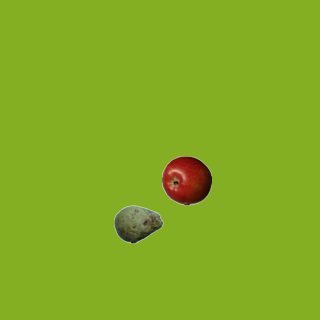Apple Braeburn: (161, 155, 211, 205)
Pear Stone: (113, 199, 163, 249)
